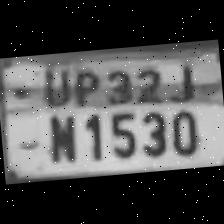0: (164, 103, 204, 159)
1: (77, 106, 109, 164)
2: (130, 61, 166, 106)
3: (135, 106, 169, 161), (98, 63, 134, 108)
5: (102, 104, 141, 162)
J: (165, 56, 196, 102)
N: (41, 108, 80, 164)
P: (66, 64, 104, 111)
U: (34, 62, 72, 110)
